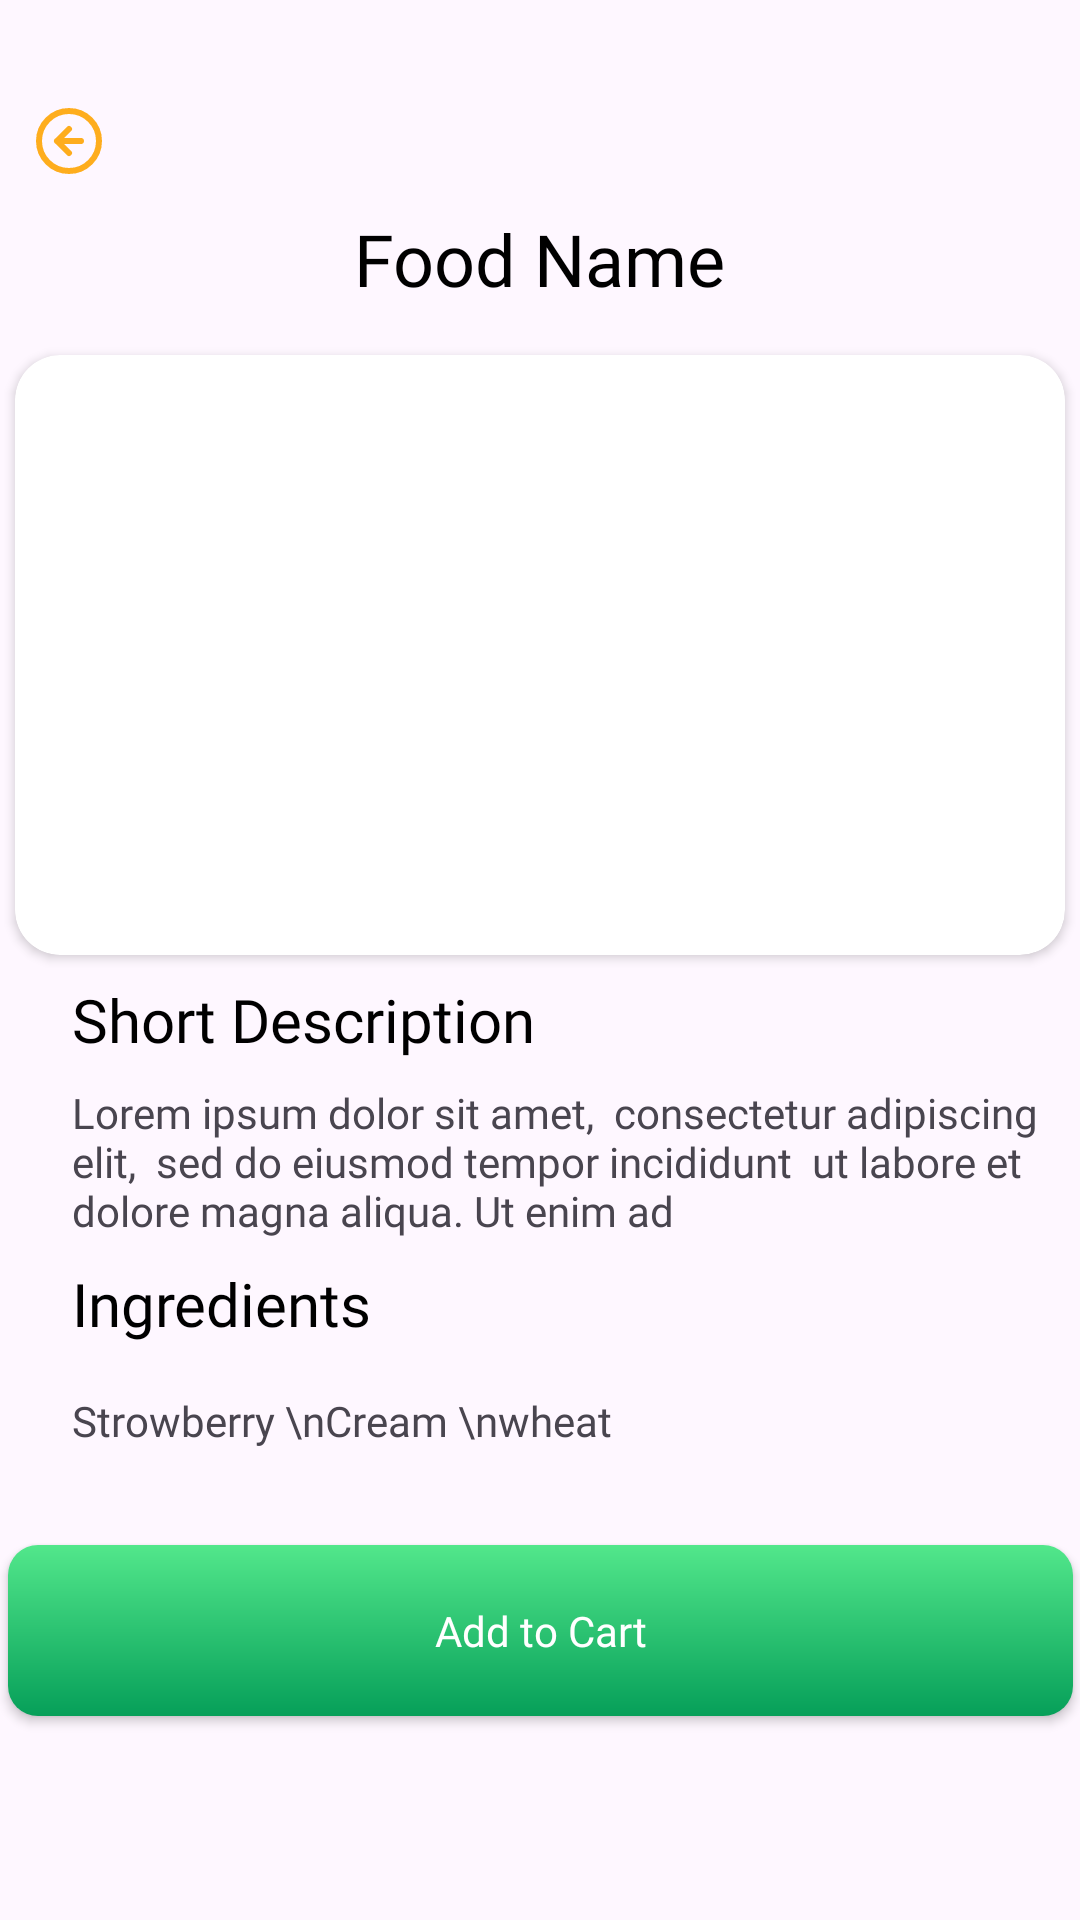

Icon bounding boxes for this 1080*1920 phone screenshot, format (x1, y1, x2, y2):
arrow left: (36, 108, 102, 174)
